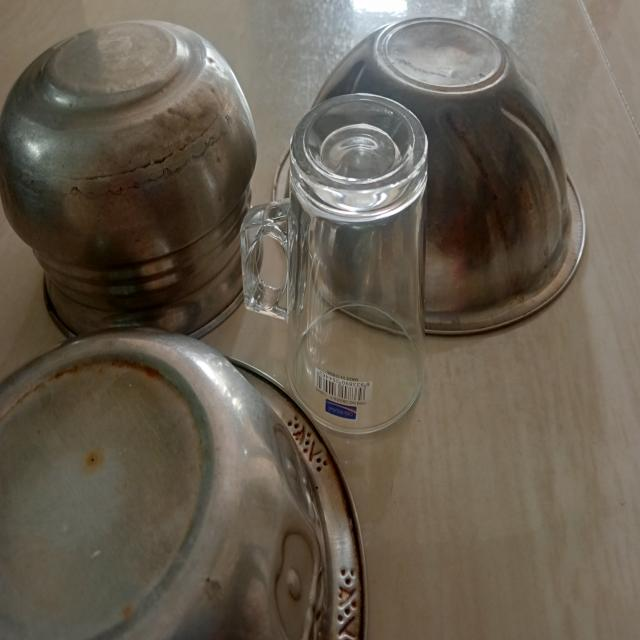glass-VX4N: (240, 85, 434, 439)
